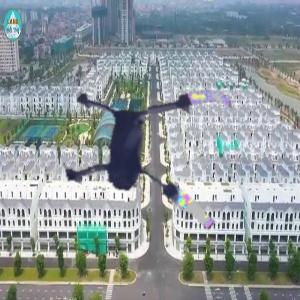drone: (40, 52, 251, 263)
